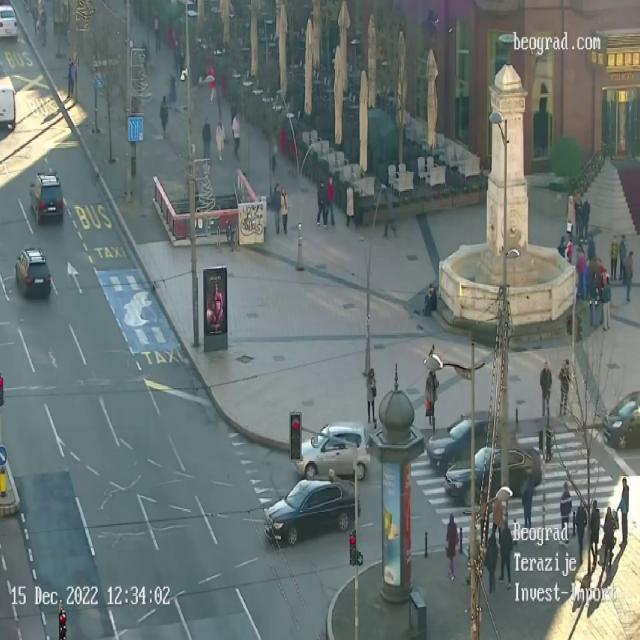car: (262, 478, 360, 546), (446, 445, 539, 503), (295, 425, 369, 475), (431, 420, 506, 465), (602, 391, 640, 448), (29, 170, 64, 224), (15, 246, 51, 297), (0, 77, 16, 135), (1, 6, 18, 42)
